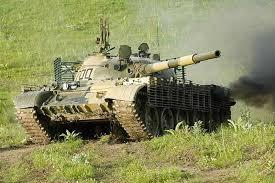tank: (13, 26, 249, 146)
